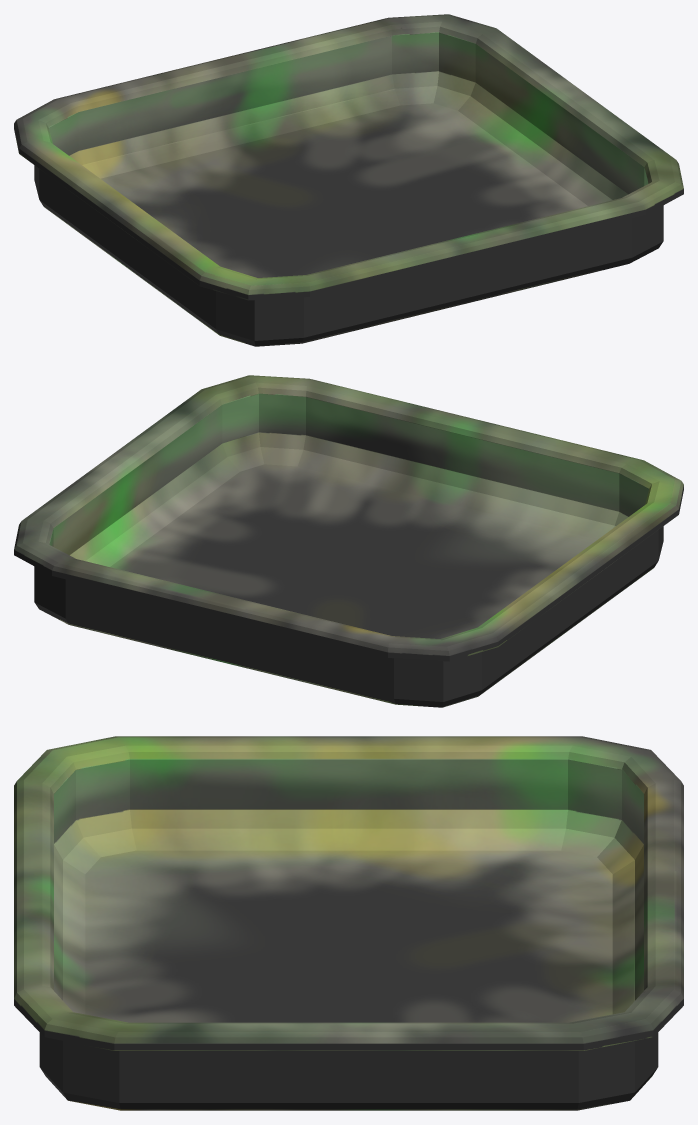
Rendered from Kazan.fbx.
3 views of the same model, one above another, from view 1: azimuth 30°, elevation 25°; view 2: azimuth 150°, elevation 25°; view 3: azimuth 270°, elevation 25° (orthographic). The views are drawn at different scales.
Parts seen in each view (by area): view 1: Cube.031; view 2: Cube.031; view 3: Cube.031.
Boxes of the visible parts, bbox=[...] form: Cube.031: bbox=[14, 14, 683, 346]; Cube.031: bbox=[14, 375, 683, 707]; Cube.031: bbox=[14, 736, 683, 1110].
Size of the model in its own units: 3284 by 466 by 3061.
Materials: 1 (1 with a texture image).
